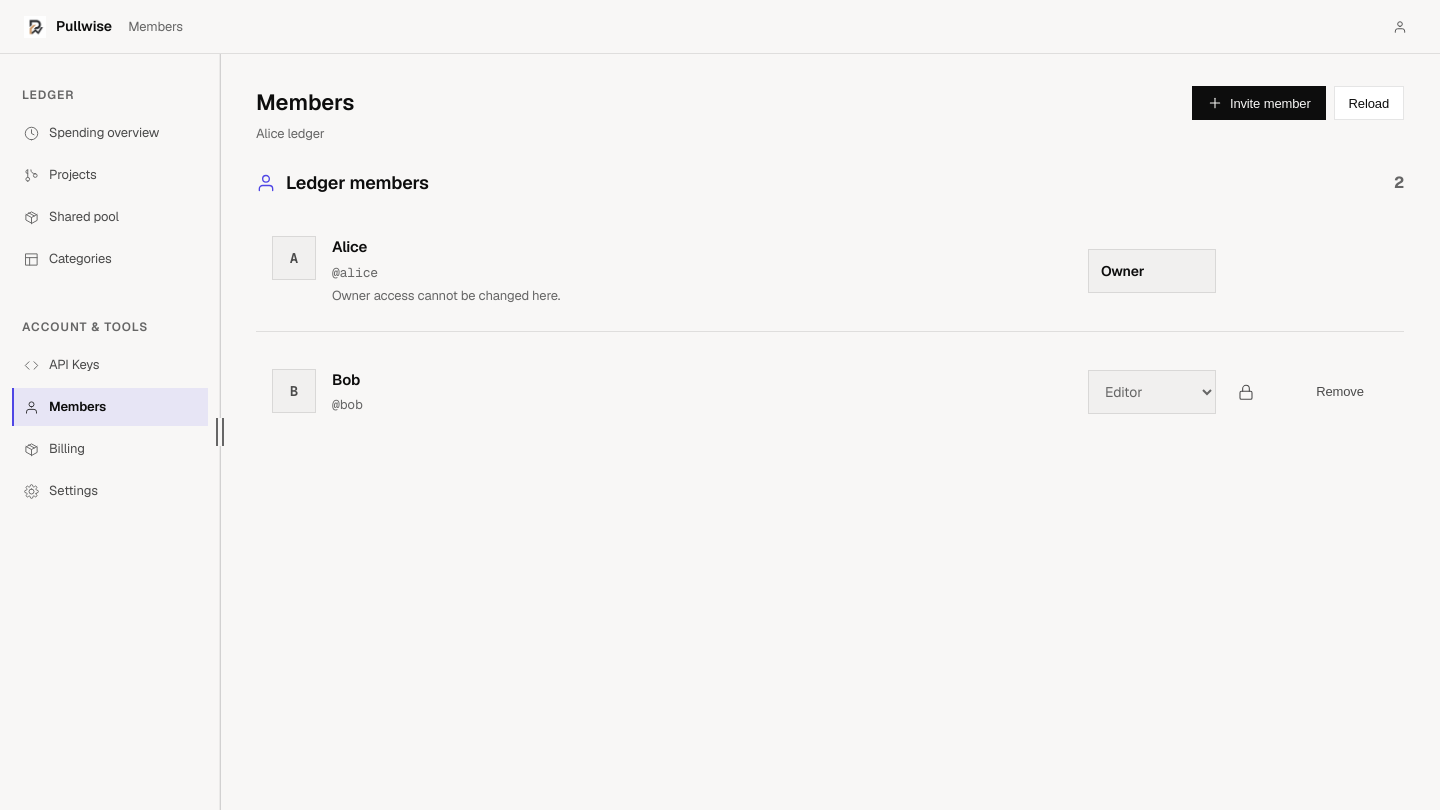
Test: Members screen › protects the Owner row and saves another member's explicit role with its current revision
This screenshot has width=1440, height=810.
Expected: the dropdown named "Role for bob" is disabled, [1088, 370, 1216, 414]
Click the button named "Edit role for bob": (1246, 392) [1224, 370, 1268, 414]
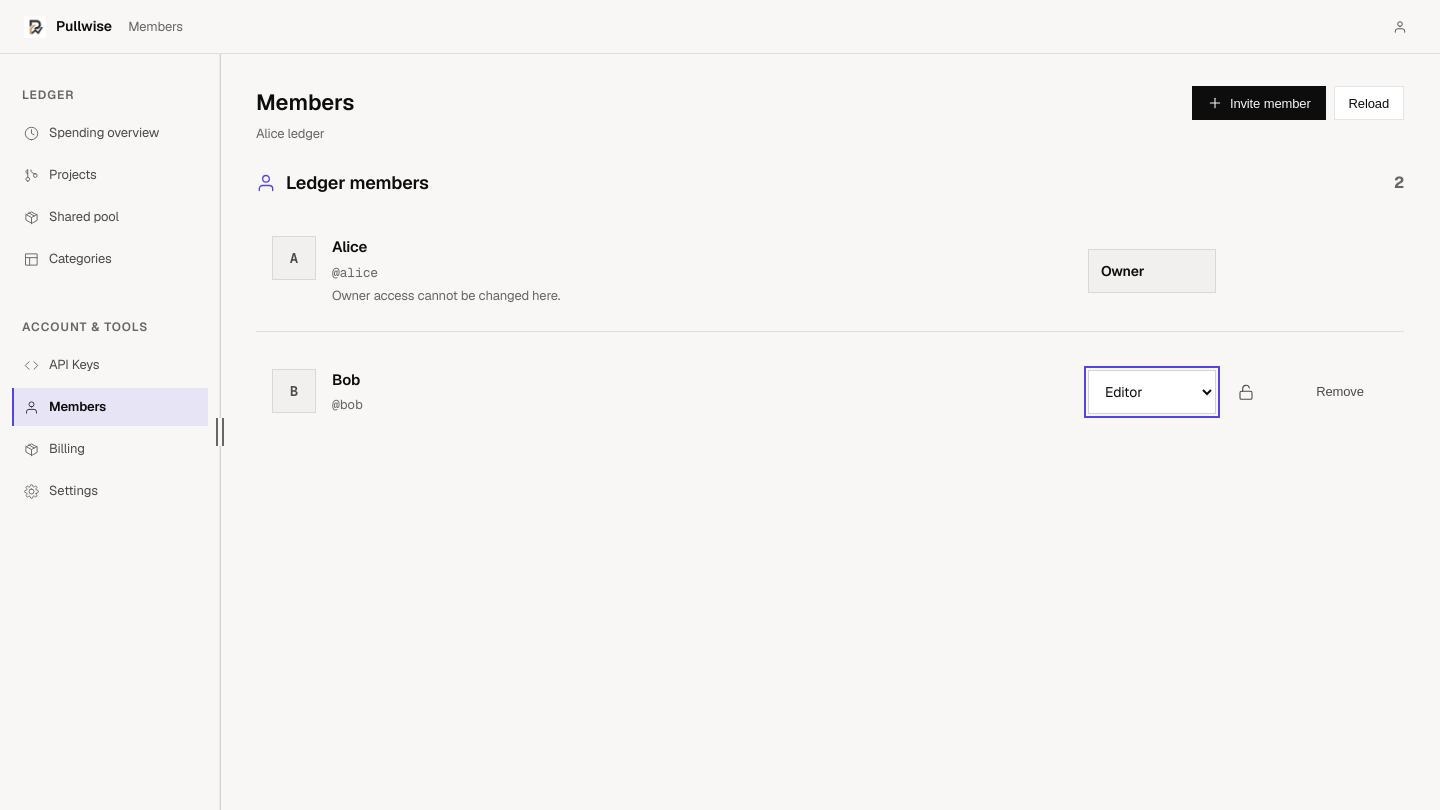
Result: the dropdown named "Role for bob" is enabled
Select "Viewer" in the dropdown named "Role for bob": (1152, 392) [1088, 370, 1216, 414]
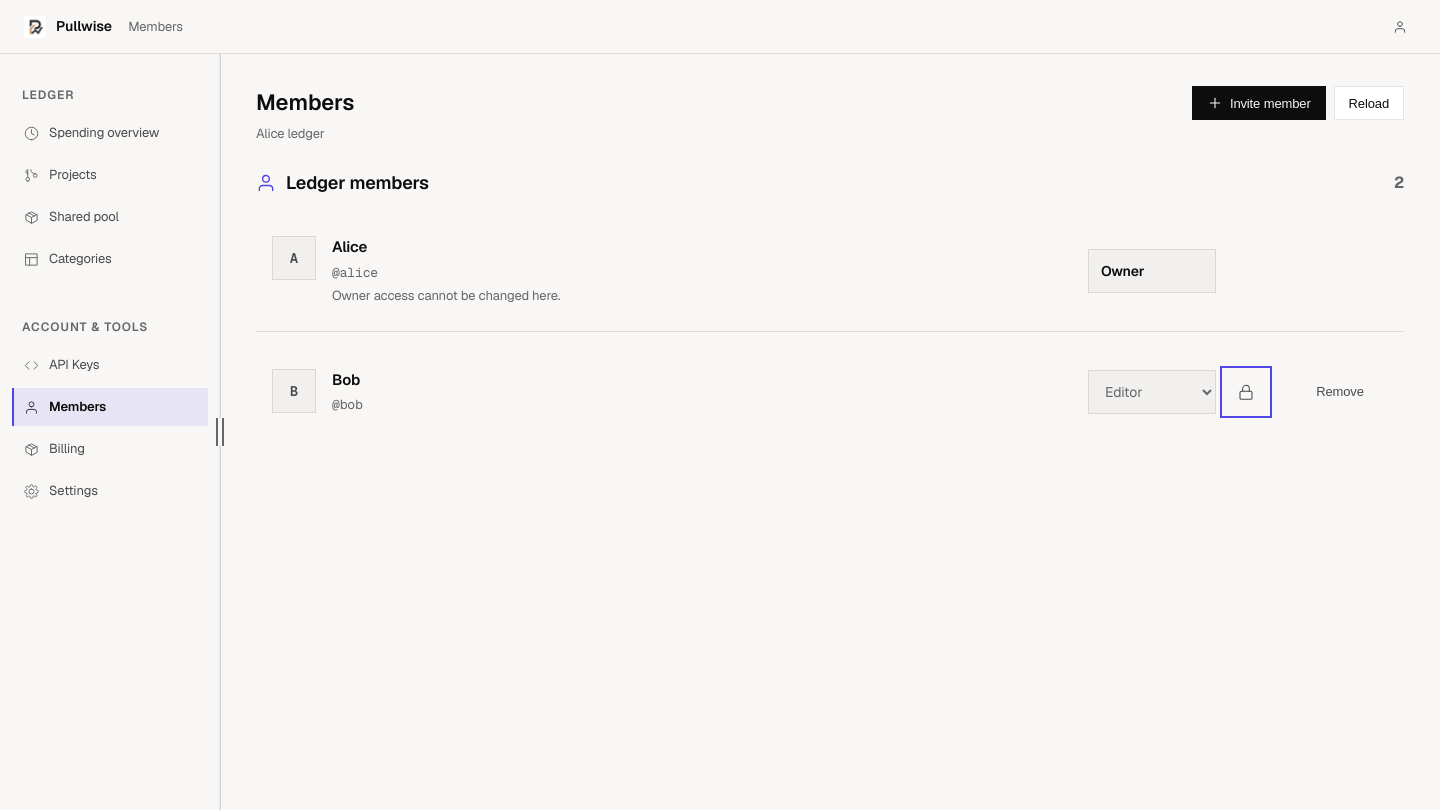
Result: the dropdown named "Role for bob" is disabled at [1088, 370, 1216, 414]
